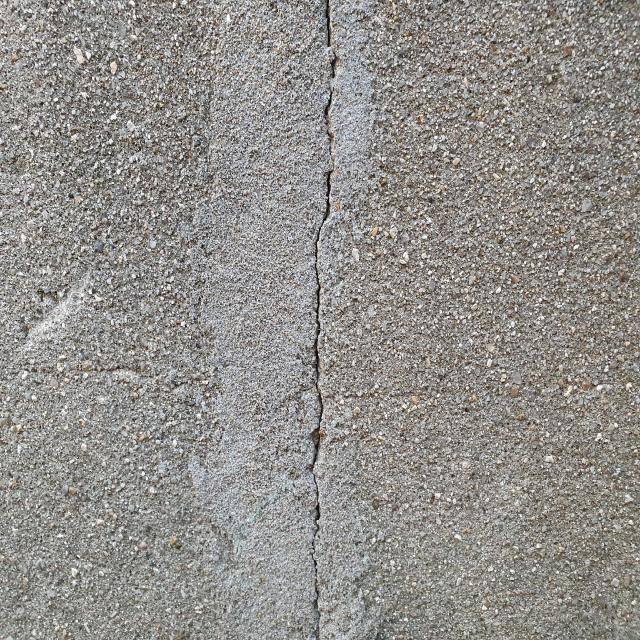SurfaceCrack: (247, 1, 379, 640)
